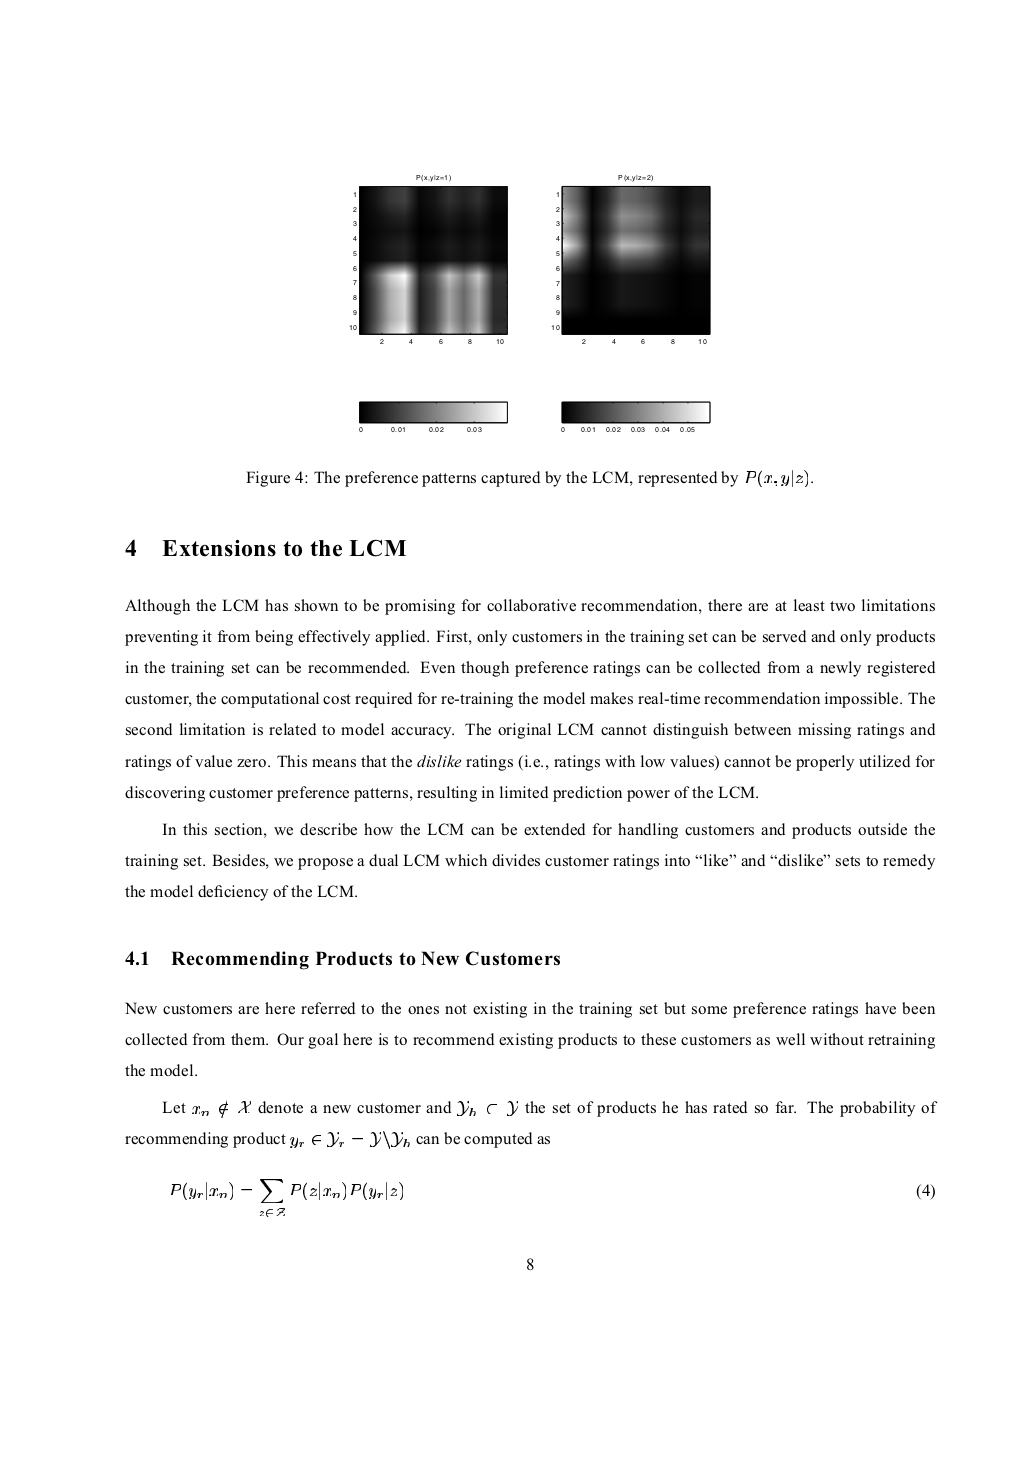figure: (551, 175, 710, 344), (349, 175, 507, 344), (561, 400, 710, 432), (359, 400, 507, 432)
formula: (170, 1179, 934, 1216)
